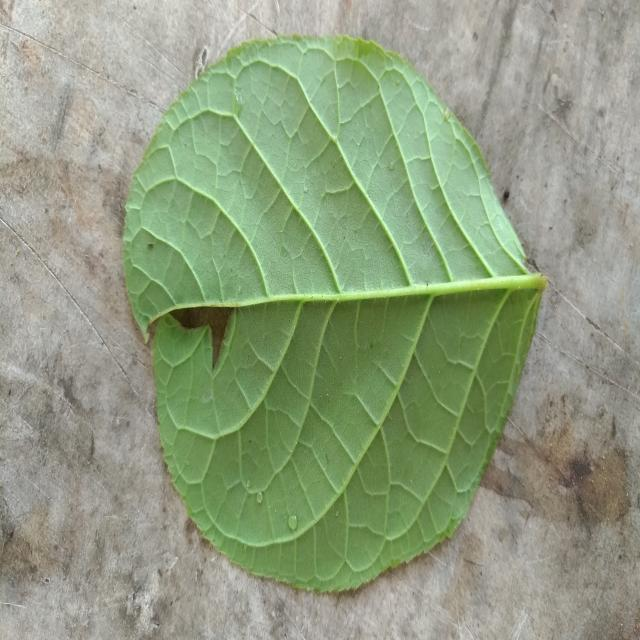padri: (124, 38, 545, 591)
